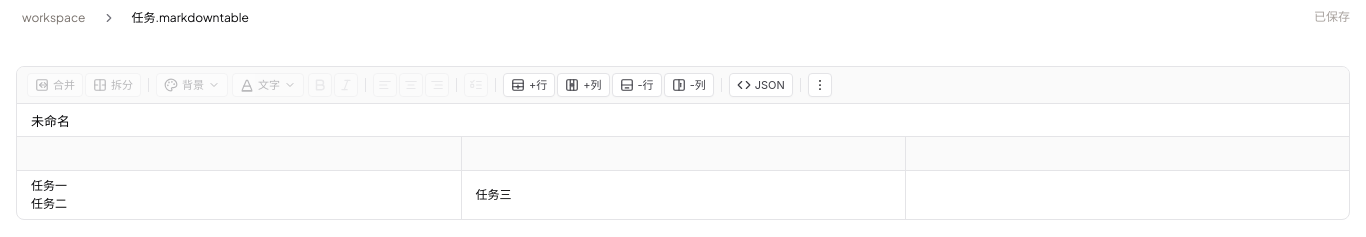
converts selected cells to tasks, persists completion, and removes task formatting without losing text
Step 1. Press the mouse on the cell "任务一 任务二" → {"x": 239, "y": 195}, box [17, 170, 461, 219]
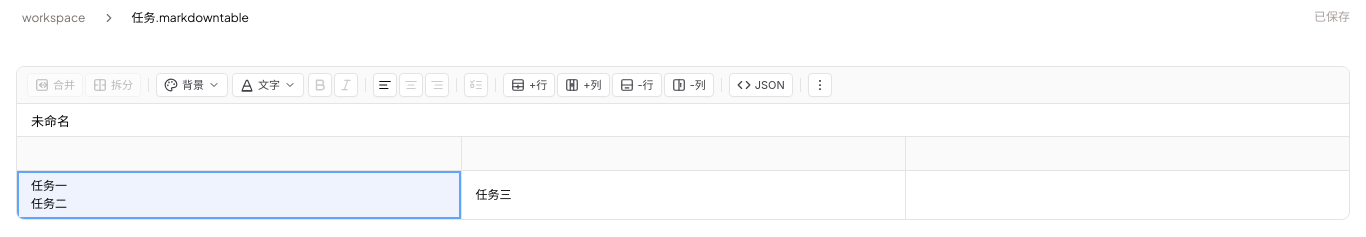
Step 2. Press the mouse on the cell "任务三" → {"x": 683, "y": 195}, box [461, 170, 905, 219]
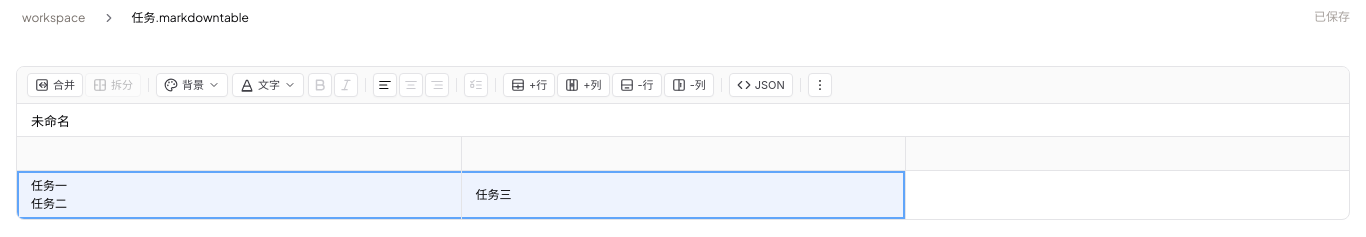
Step 3. Click the button named "任务列表" → {"x": 476, "y": 85}, box [464, 73, 488, 97]
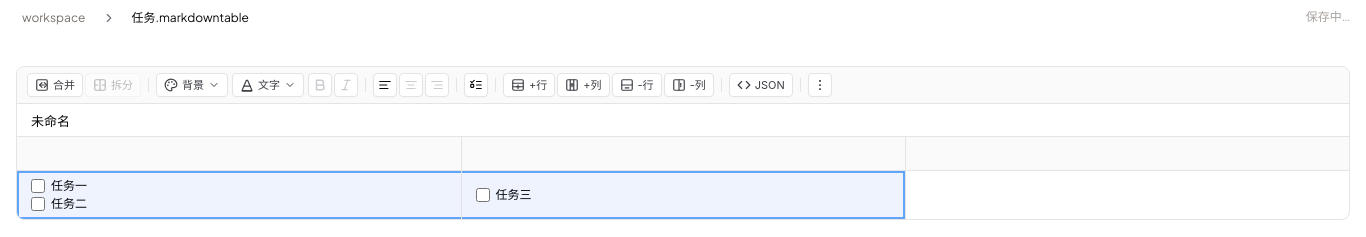
Expected: the number of checkboxes is 3
Step 4. Click the checkbox named "任务二" → {"x": 38, "y": 204}, box [31, 197, 45, 211]
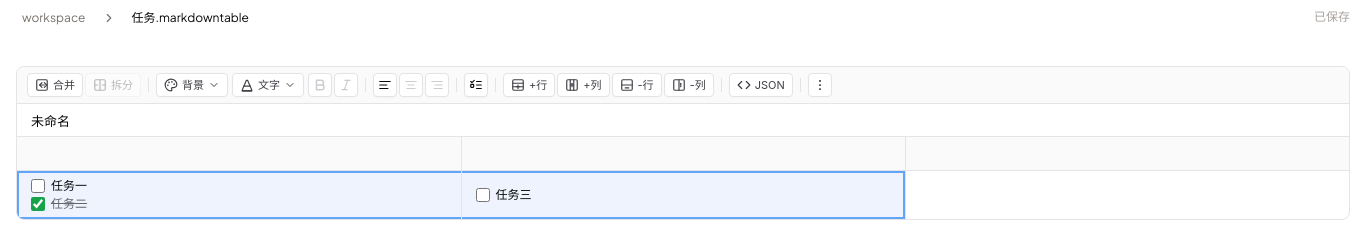
Expected: the checkbox named "任务二" is checked, [31, 197, 45, 211]
Step 5. Click the button named "任务列表" → {"x": 476, "y": 85}, box [464, 73, 488, 97]
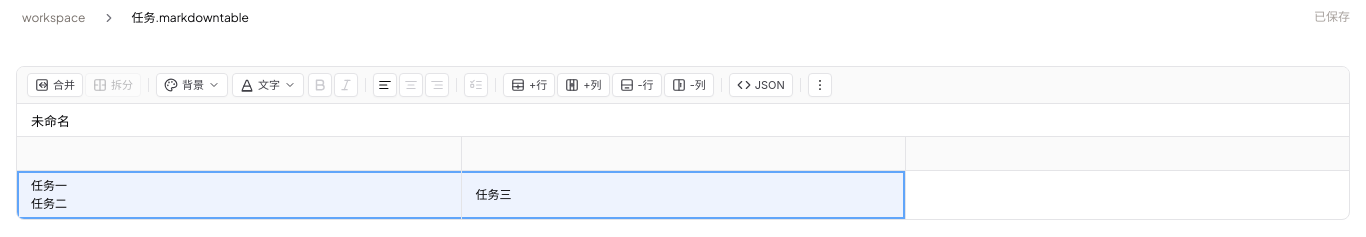
Expected: the checkbox is gone
